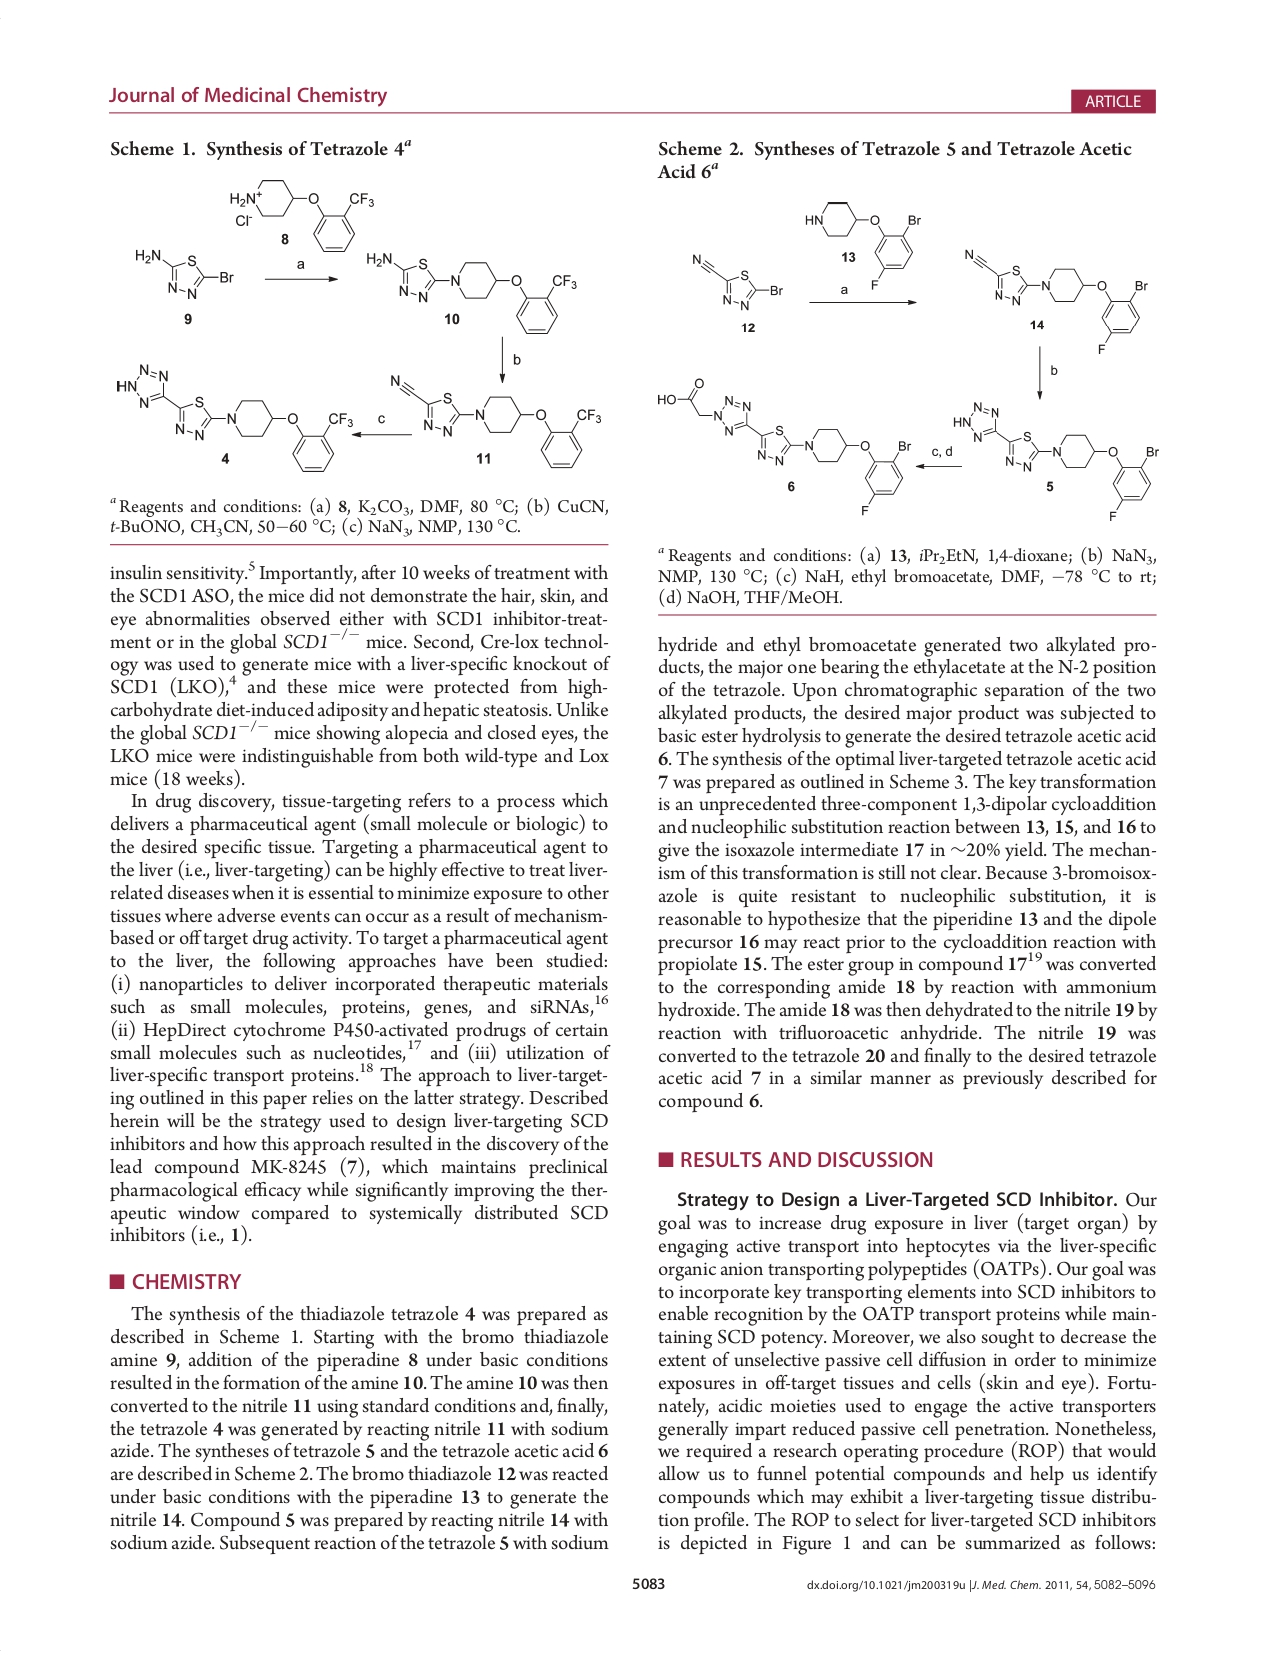exist_molecular: (653, 376, 914, 515), (114, 360, 354, 476), (951, 398, 1162, 523), (387, 368, 602, 471), (961, 245, 1150, 358), (364, 247, 578, 338), (227, 176, 376, 258), (803, 198, 923, 293), (690, 249, 785, 317), (130, 243, 237, 302)
